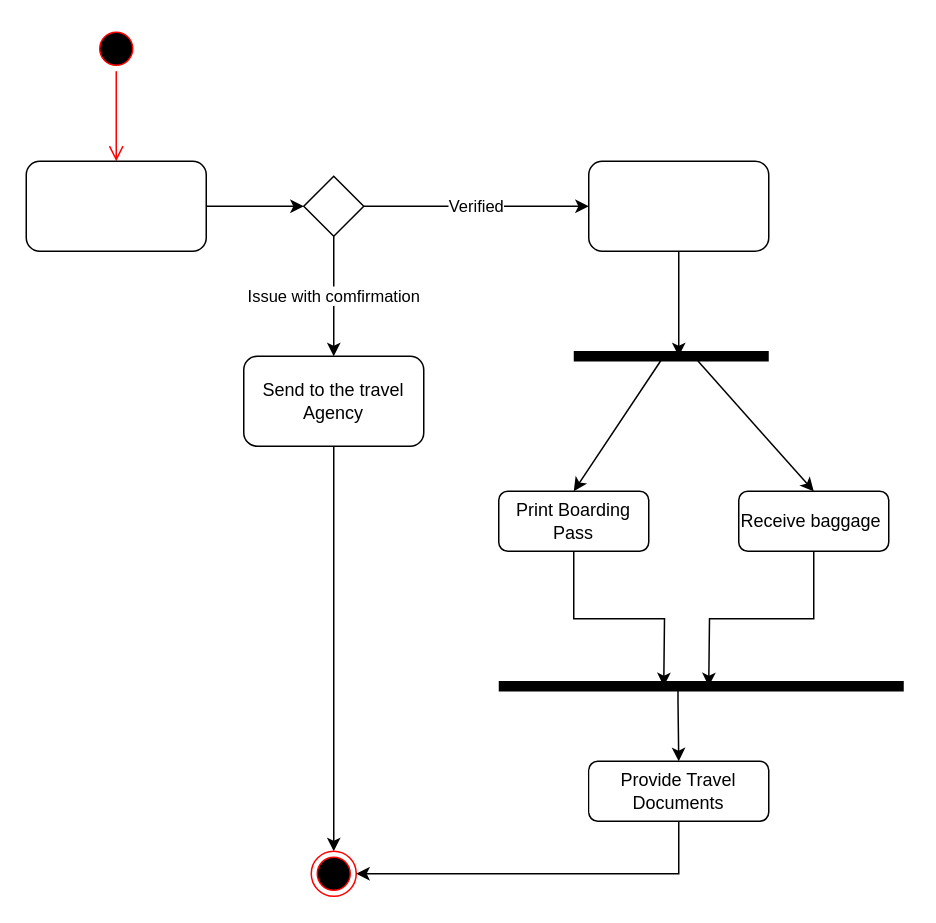
This 936x923 diagram has some shape labels left out. The shapes that lost their labels are listed below. From the top down, each one's centre as x and y in pixels, then its label:
(115,205): Verify Reservation
(678,205): Get Preference
